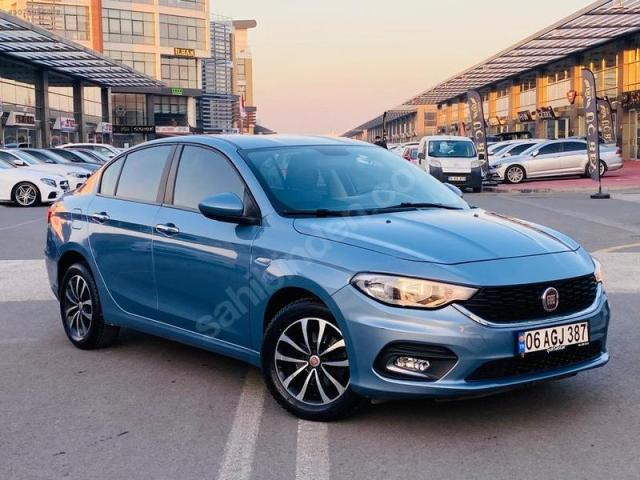plaka: (518, 323, 588, 354)
